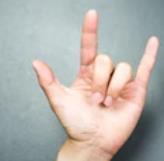back: (32, 8, 164, 140)
